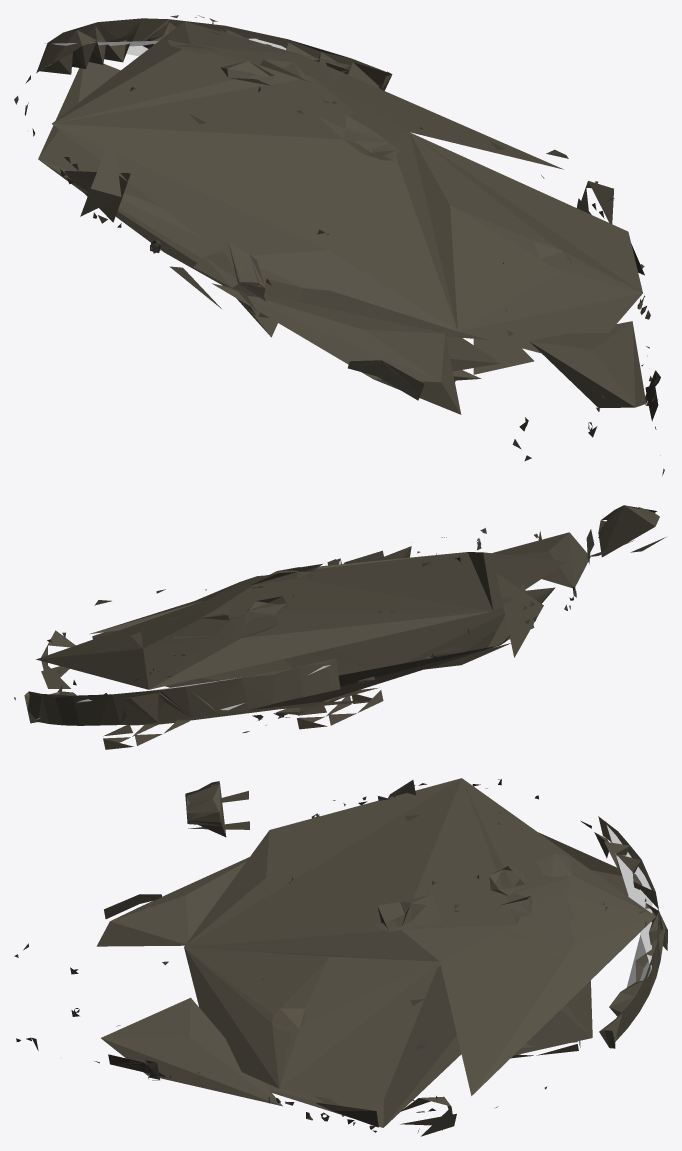
3 views of the same model, one above another, from view 1: azimuth 30°, elevation 25°; view 2: azimuth 150°, elevation 25°; view 3: azimuth 270°, elevation 25° (orthographic). The views are drawn at different scales.
Parts seen in each view (by area): view 1: Mesh_0067_Tex_0095_1.dds_0, Mesh_0068_Tex_0095_2.dds_0, Mesh_0546_Tex_5040_1.dds_0; view 2: Mesh_0067_Tex_0095_1.dds_0, Mesh_0069_Tex_0095_3.dds_0, Mesh_0068_Tex_0095_2.dds_0; view 3: Mesh_0067_Tex_0095_1.dds_0, Mesh_0068_Tex_0095_2.dds_0, Mesh_0546_Tex_5040_1.dds_0.
Boxes of the visible parts, x1=… form: Mesh_0067_Tex_0095_1.dds_0: x1=36, y1=18, x2=646, y2=414; Mesh_0068_Tex_0095_2.dds_0: x1=14, y1=15, x2=664, y2=475; Mesh_0546_Tex_5040_1.dds_0: x1=44, y1=38, x2=286, y2=300; Mesh_0067_Tex_0095_1.dds_0: x1=24, y1=505, x2=659, y2=725; Mesh_0069_Tex_0095_3.dds_0: x1=103, y1=646, x2=485, y2=749; Mesh_0068_Tex_0095_2.dds_0: x1=14, y1=528, x2=665, y2=733; Mesh_0067_Tex_0095_1.dds_0: x1=96, y1=778, x2=667, y2=1136; Mesh_0068_Tex_0095_2.dds_0: x1=14, y1=779, x2=646, y2=1132; Mesh_0546_Tex_5040_1.dds_0: x1=185, y1=784, x2=652, y2=1048.
Bounding box in the file's own units: 17.58 × 7.57 × 24.1.
